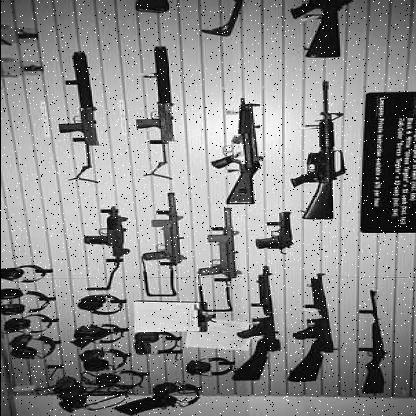rifle: (284, 79, 354, 222), (233, 257, 300, 385), (132, 46, 185, 182), (281, 272, 340, 385), (52, 45, 109, 151), (346, 290, 398, 395), (217, 97, 265, 207), (136, 188, 184, 266), (74, 200, 128, 264), (198, 207, 240, 284)
